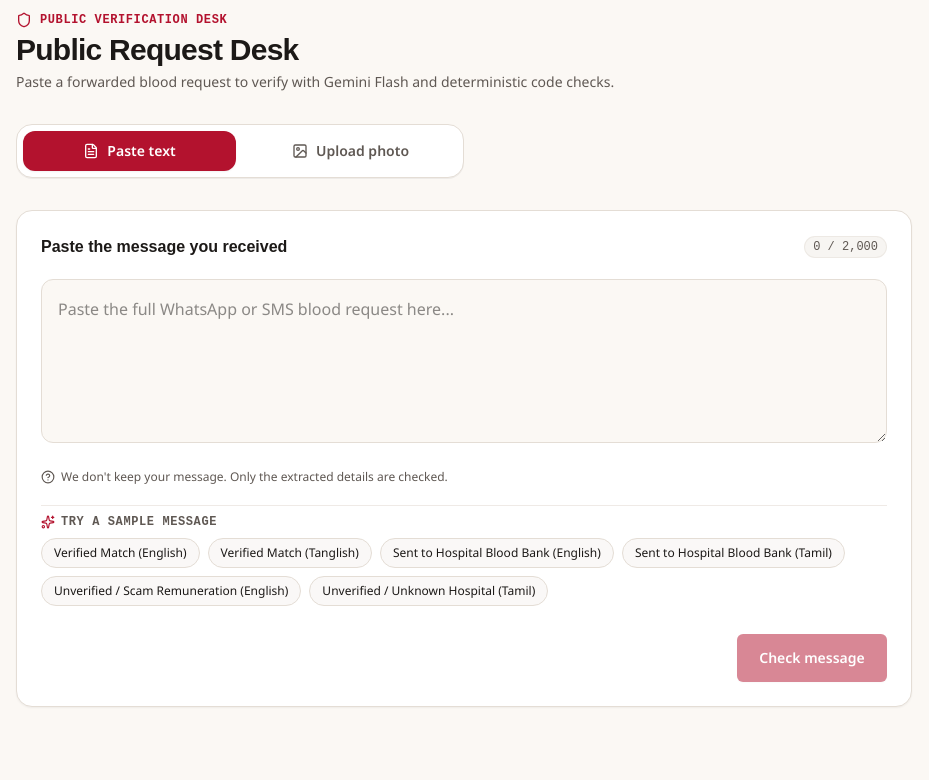
Test: DeskPage (/desk) › displays loading state and handles API error cleanly
This screenshot has width=929, height=780.
Type "Random test text" into the text box labelled "Paste the message you received" at (464, 361), box [41,279,887,443]
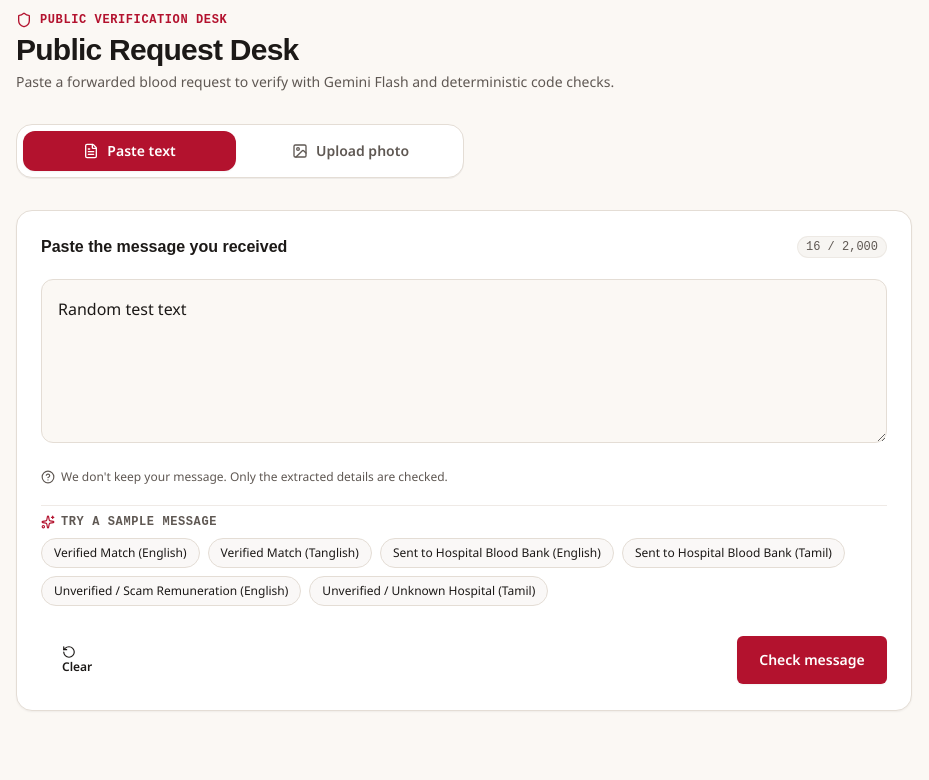
Click the button "Check message" at (812, 660), box [737,636,887,684]
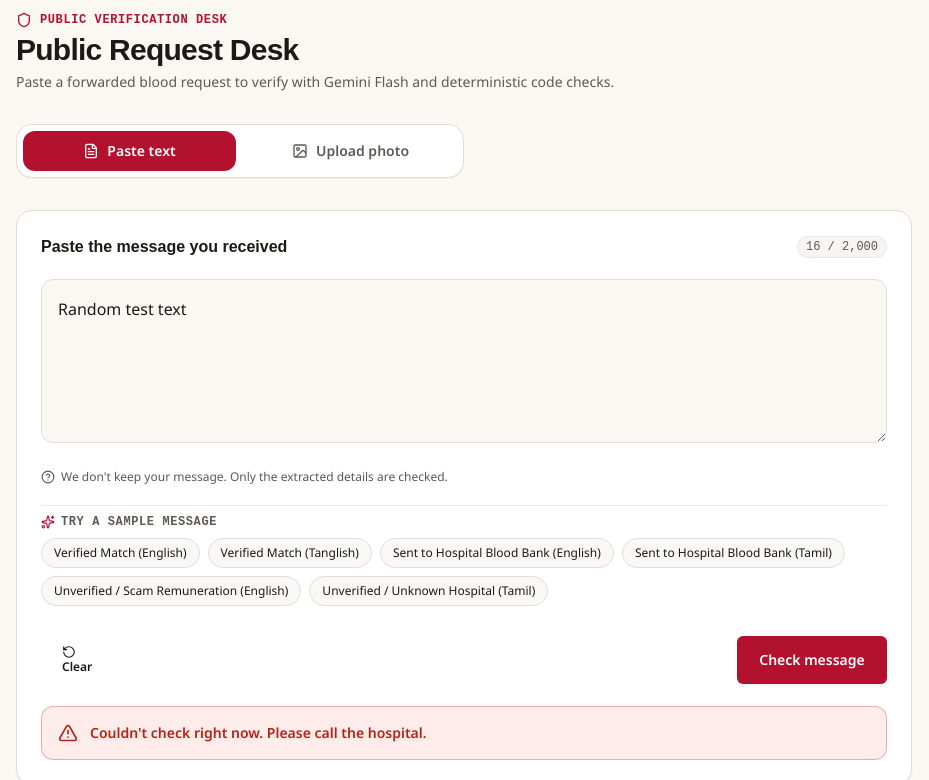
Result: the text "Couldn't check right now. Please call the hospital." is shown at [90,723,427,743]
